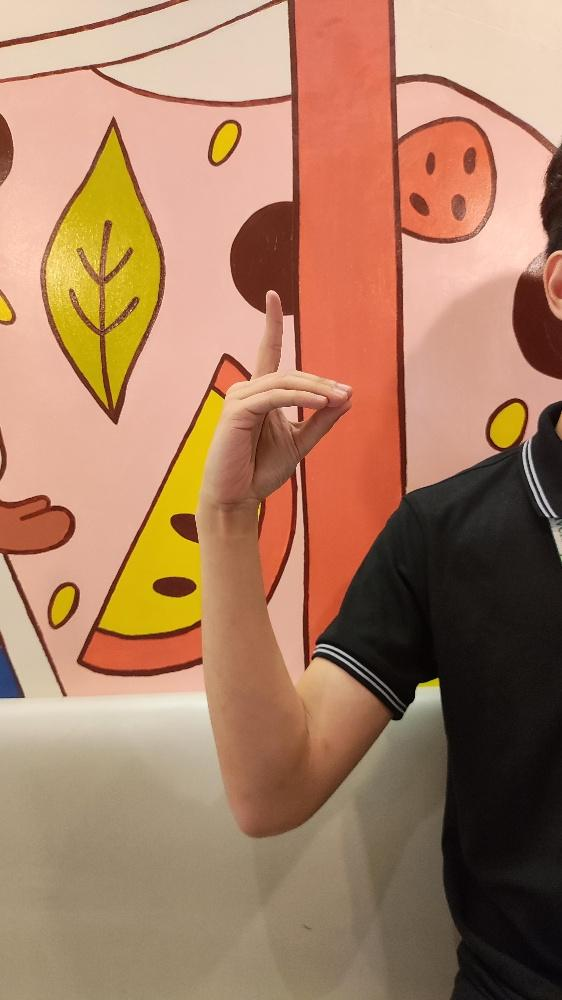d: (203, 286, 352, 505)
